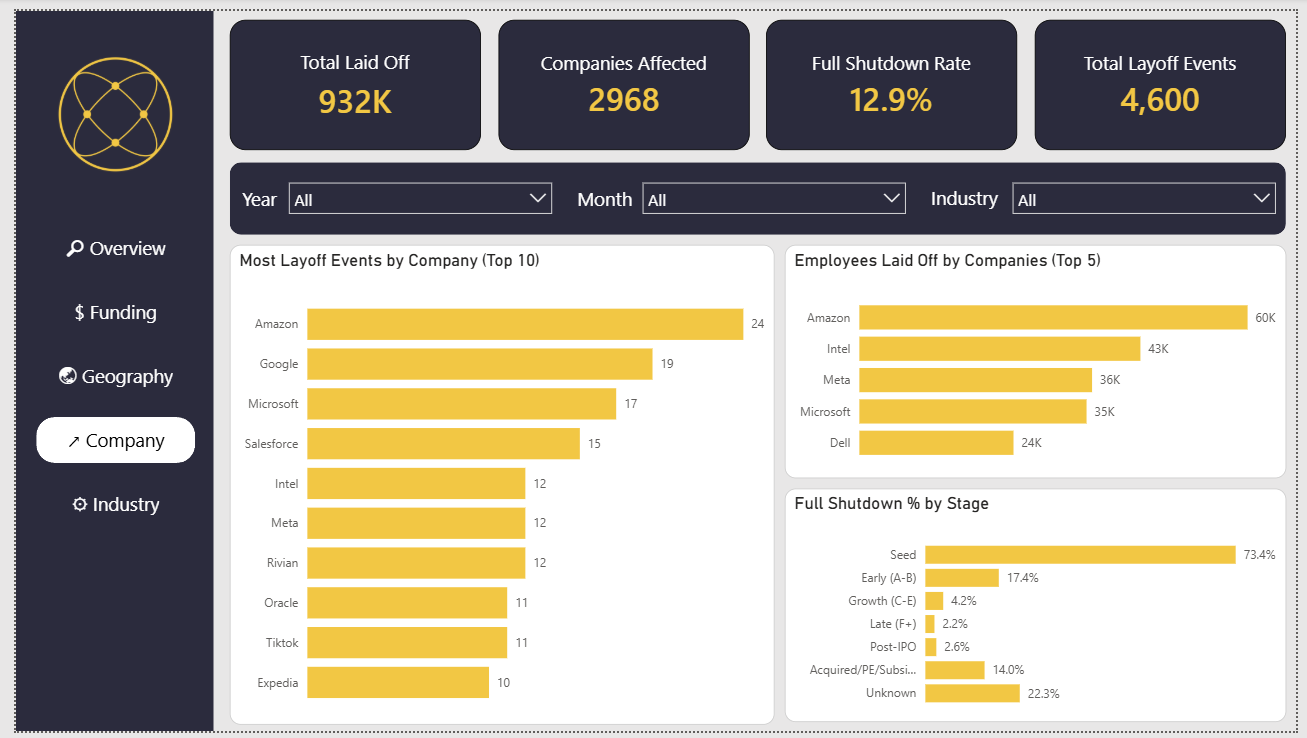

What the dashboard file says about the page in this screenshot:
{"tool":"powerbi","page":{"name":"↗  Company","canvas":[1280,720],"ordinal":3},"visuals":[{"type":"shape","box":[0,0,197.5,720],"z":0},{"type":"cardVisual","fields":{"Data":["Layoff Measures.Total Laid Off"]},"box":[213.5,8.8,251,130.4],"z":0,"group":"g2"},{"type":"shape","box":[213.8,151.2,1056.2,72.5],"z":0,"group":"g5"},{"type":"group","id":"g1","title":"Group 2","box":[221.2,161.1,324.1,49.5],"z":0,"group":"g7"},{"type":"group","id":"g2","title":"Group 1","box":[213.5,8.8,1056,130.4],"z":1000},{"type":"cardVisual","fields":{"Data":["Layoff Measures.Total Layoff Events"]},"box":[1018.5,8.8,251,130.4],"z":1000,"group":"g2"},{"type":"group","id":"g3","title":"Group 4","box":[556.5,161.1,343.8,49.5],"z":1000,"group":"g7"},{"type":"cardVisual","fields":{"Data":["General Measures.Companies Affected"]},"box":[481.7,9.2,251.2,130],"z":2000,"group":"g2"},{"type":"group","id":"g4","title":"Group 5","box":[910.3,161.1,359.4,50.7],"z":2000,"group":"g7"},{"type":"pageNavigator","box":[11.2,205,177.5,322.5],"z":2000},{"type":"cardVisual","fields":{"Data":["General Measures.Full Shutdowns % (Disclosed)"]},"box":[750.3,8.8,251,130.4],"z":3000,"group":"g2"},{"type":"image","box":[6.2,22.5,186.2,161.2],"z":3000},{"type":"barChart","title":"Employees Laid Off by Companies (Top 5)","fields":{"Category":["dim_company.company"],"Y":["Layoff Measures.Total Laid Off"]},"box":[768.8,233.8,501.2,233.8],"z":4000},{"type":"barChart","title":"Full Shutdown % by Stage","fields":{"Category":["dim_stage.stage group"],"Y":["General Measures.Full Shutdowns % (Disclosed)"]},"box":[768.8,477.5,501.2,233.8],"z":5000},{"type":"clusteredBarChart","title":"Most Layoff Events by Company (Top 10)","fields":{"Category":["dim_company.company"],"Y":["Layoff Measures.Total Layoff Events"]},"box":[213.8,233.8,545,480],"z":6000},{"type":"group","id":"g5","title":"Group 7","box":[213.8,151.2,1056.2,72.5],"z":7000},{"type":"textbox","box":[556.5,169.8,82.9,35.9],"z":7002,"group":"g3"},{"type":"slicer","fields":{"Values":["dim_date.Year"]},"box":[262,161.1,283.3,49.5],"z":8000,"group":"g6"},{"type":"slicer","fields":{"Values":["dim_date.month_name"]},"box":[617,161.1,283.3,49.5],"z":8000,"group":"g3"},{"type":"slicer","fields":{"Values":["dim_industry.industry"]},"box":[986.5,161.1,283.3,50.7],"z":8000,"group":"g4"},{"type":"group","id":"g6","title":"Group 3","box":[221.2,161.1,324.1,49.5],"z":8001,"group":"g1"},{"type":"textbox","box":[910.3,168.5,92.8,35.9],"z":9000,"group":"g4"},{"type":"textbox","box":[221.2,169.9,65,36.2],"z":9001,"group":"g6"},{"type":"group","id":"g7","title":"Group 6","box":[221.2,161.1,1048.5,50.7],"z":9003,"group":"g5"}]}

Visuals, with their boxes in screenshot pixels (x1, y1, x2, y2), scaled from the page's 1280x720 canvas onto the 1307x738 screenshot:
shape: l=0, t=0, r=202, b=737
cardVisual - Layoff Measures.Total Laid Off: l=218, t=9, r=474, b=143
shape: l=218, t=155, r=1297, b=229
"Group 2" group: l=226, t=165, r=557, b=216
"Group 1" group: l=218, t=9, r=1296, b=143
cardVisual - Layoff Measures.Total Layoff Events: l=1040, t=9, r=1296, b=143
"Group 4" group: l=568, t=165, r=919, b=216
cardVisual - General Measures.Companies Affected: l=492, t=9, r=748, b=143
"Group 5" group: l=930, t=165, r=1296, b=217
pageNavigator: l=11, t=210, r=193, b=541
cardVisual - General Measures.Full Shutdowns % (Disclosed): l=766, t=9, r=1022, b=143
image: l=6, t=23, r=196, b=188
"Employees Laid Off by Companies (Top 5)" barChart: l=785, t=240, r=1297, b=479
"Full Shutdown % by Stage" barChart: l=785, t=489, r=1297, b=729
"Most Layoff Events by Company (Top 10)" clusteredBarChart: l=218, t=240, r=775, b=732
"Group 7" group: l=218, t=155, r=1297, b=229
textbox: l=568, t=174, r=653, b=211
slicer - dim_date.Year: l=268, t=165, r=557, b=216
slicer - dim_date.month_name: l=630, t=165, r=919, b=216
slicer - dim_industry.industry: l=1007, t=165, r=1297, b=217
"Group 3" group: l=226, t=165, r=557, b=216
textbox: l=930, t=173, r=1024, b=210
textbox: l=226, t=174, r=292, b=211
"Group 6" group: l=226, t=165, r=1296, b=217
